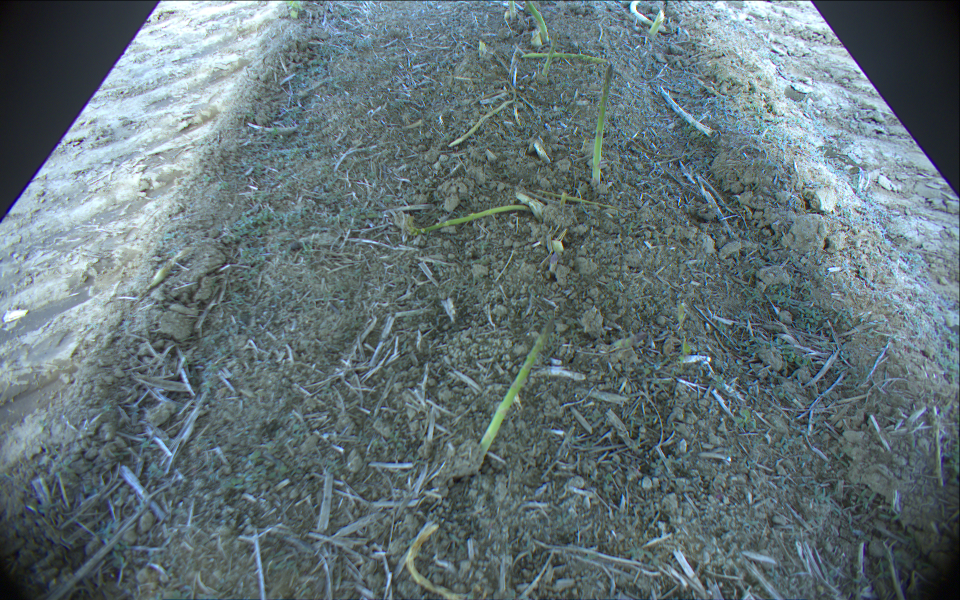aspa: (473, 313, 557, 471), (408, 521, 472, 600), (406, 205, 532, 237), (444, 99, 518, 149), (592, 64, 616, 185), (627, 1, 668, 32), (524, 1, 549, 44), (522, 51, 610, 63), (542, 32, 560, 83), (648, 11, 667, 36), (510, 1, 517, 23)
